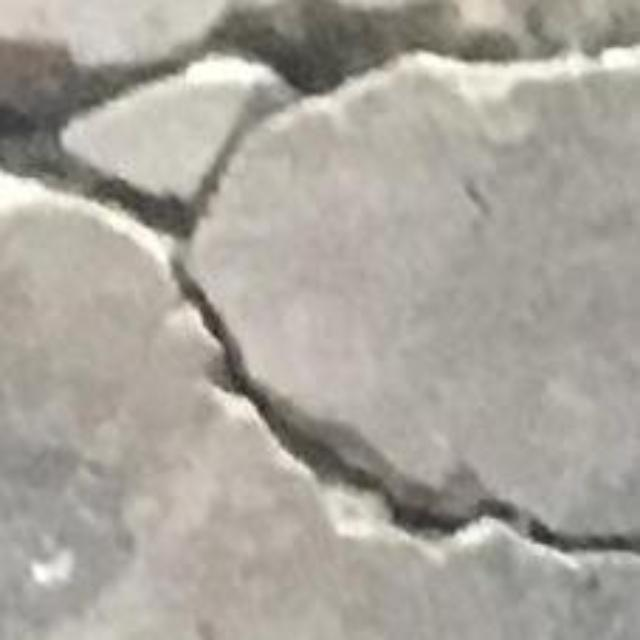crack: (0, 0, 639, 549)
